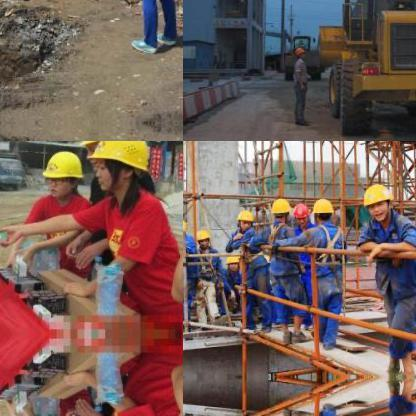Helmet: (87, 141, 149, 193), (42, 146, 88, 200), (360, 180, 392, 221), (80, 141, 130, 155), (311, 194, 333, 224), (270, 194, 290, 222), (291, 202, 309, 226), (234, 208, 252, 230), (223, 249, 241, 269), (194, 225, 210, 247), (292, 44, 306, 60), (183, 215, 188, 239)
